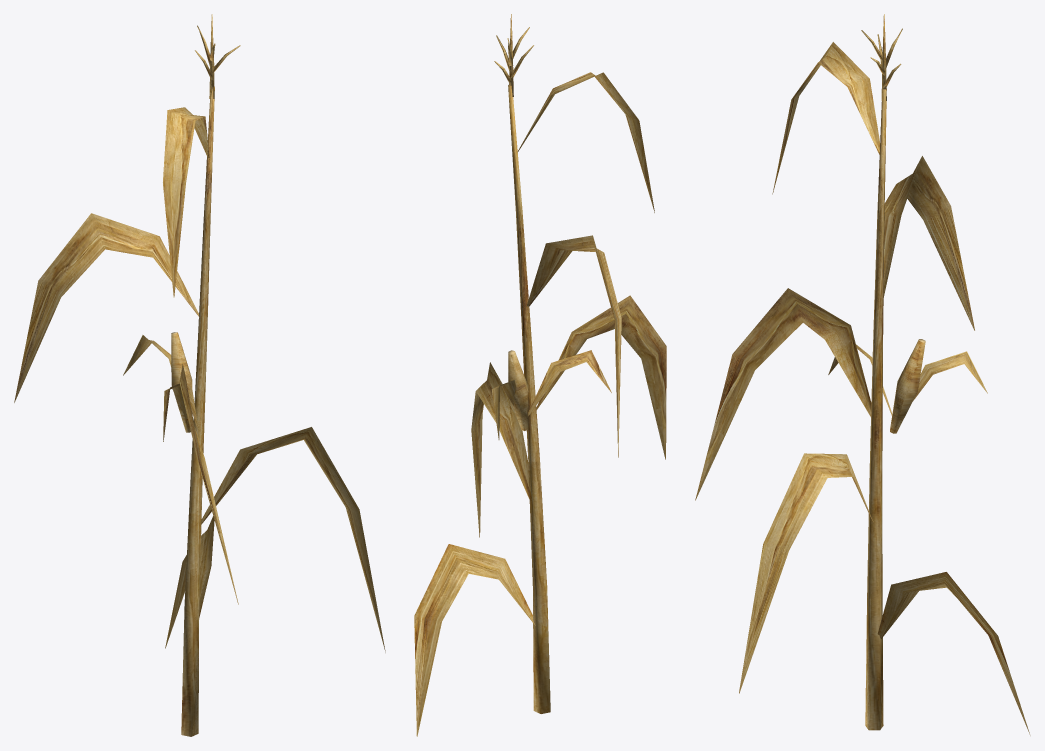
The model's file is Corn_B_Mid.glb.
3 renders of one model, left to right at view 1: azimuth 30°, elevation 25°; view 2: azimuth 150°, elevation 25°; view 3: azimuth 270°, elevation 25°, orthographic. The views are drawn at different scales.
Visible parts, largest first — view 1: Corn_B_Mid; view 2: Corn_B_Mid; view 3: Corn_B_Mid.
Boxes of the visible parts, x1=… form: Corn_B_Mid: x1=14, y1=14, x2=385, y2=736; Corn_B_Mid: x1=414, y1=14, x2=666, y2=736; Corn_B_Mid: x1=695, y1=14, x2=1030, y2=735.
Bounding box in the file's own units: 3.03 × 8 × 3.35.
Materials: 1 (1 with a texture image).
